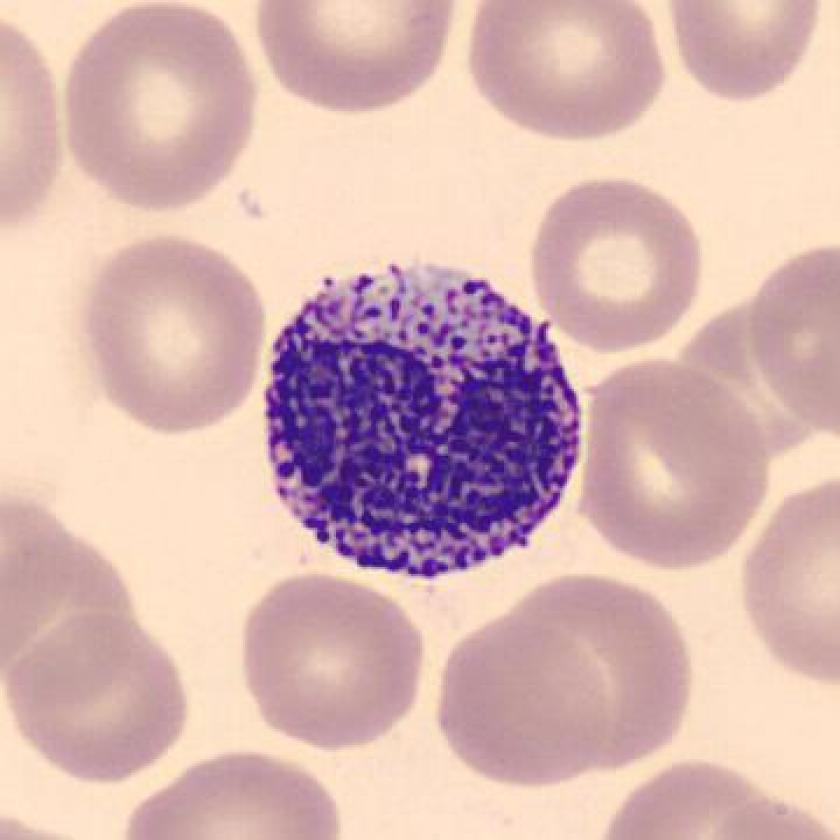basophil: (260, 253, 584, 580)
